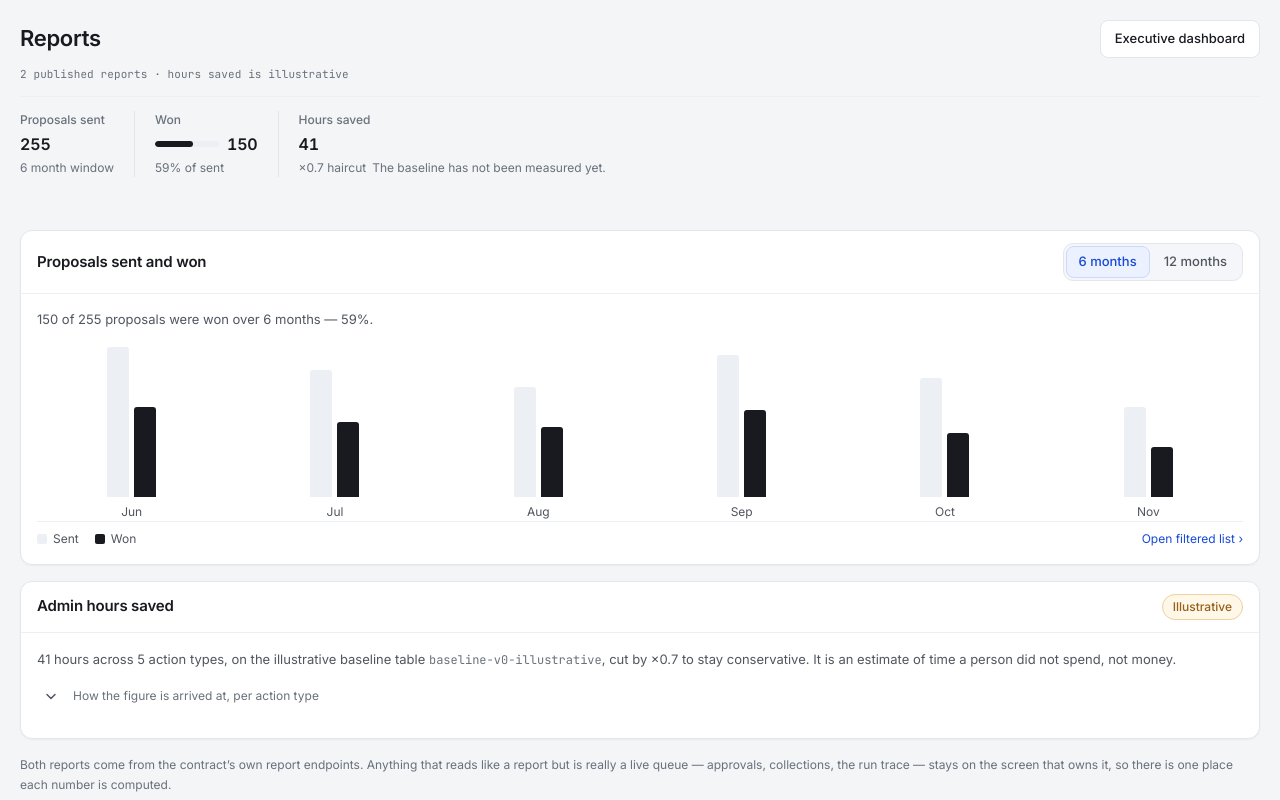
Test: /reports › re-reads the report when the window changes
This screenshot has width=1280, height=800.
Expected: the text "150 of 255 proposals were won over 6 months — 59%." is shown, [37,311,373,327]
Click the tab "12 months": (1195, 262) [1151,246,1240,278]
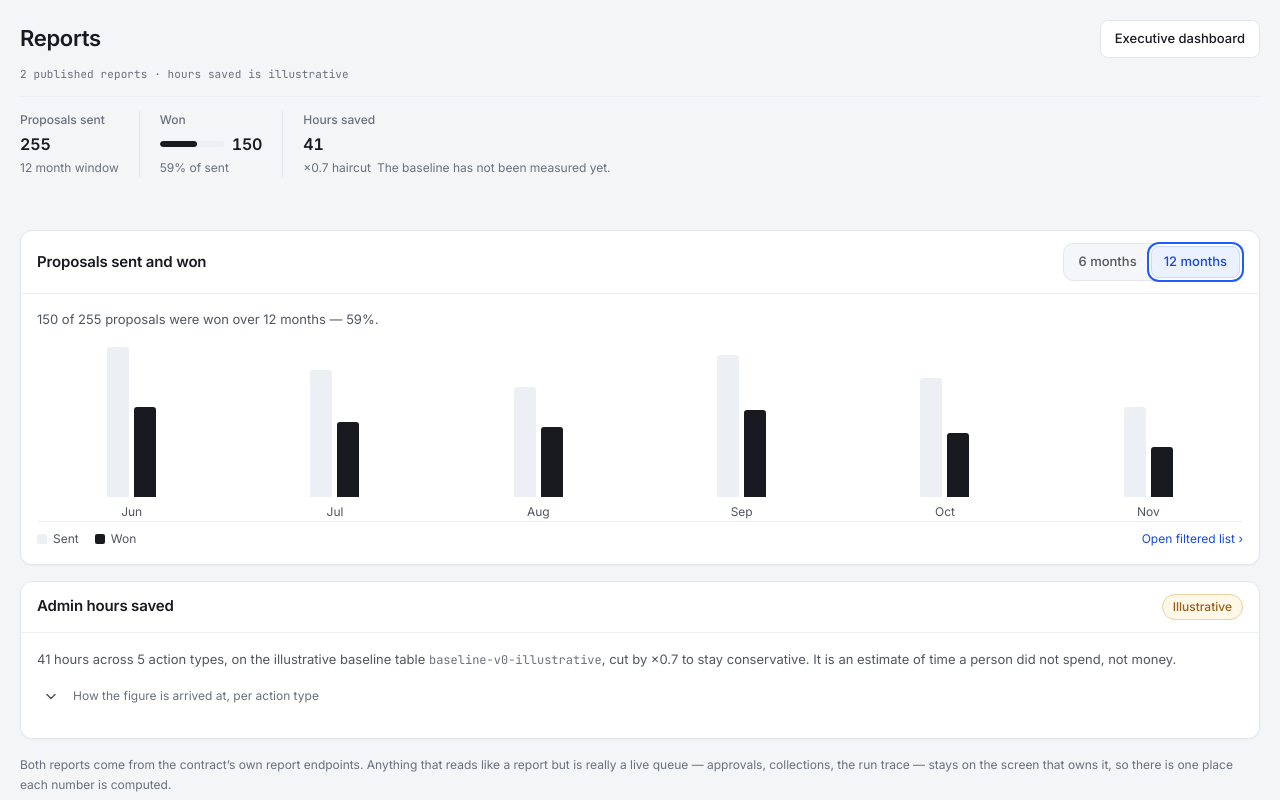
Result: the text "150 of 255 proposals were won over 12 months — 59%." is shown at [37,311,378,327]
